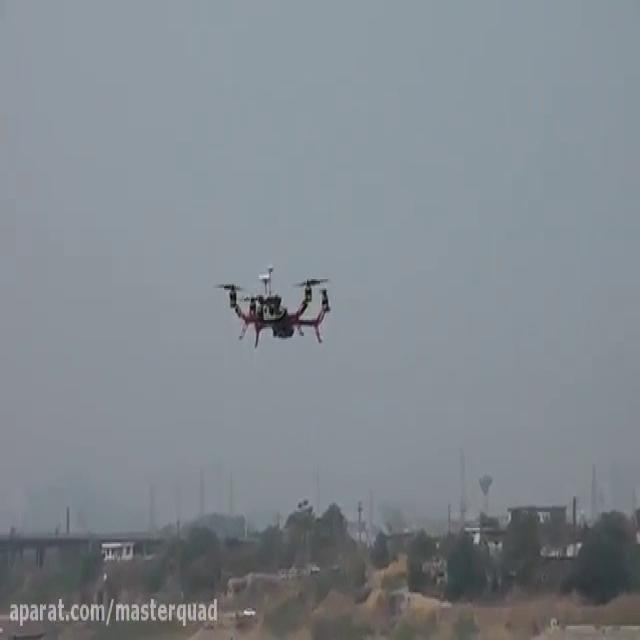drone: (211, 258, 338, 350)
